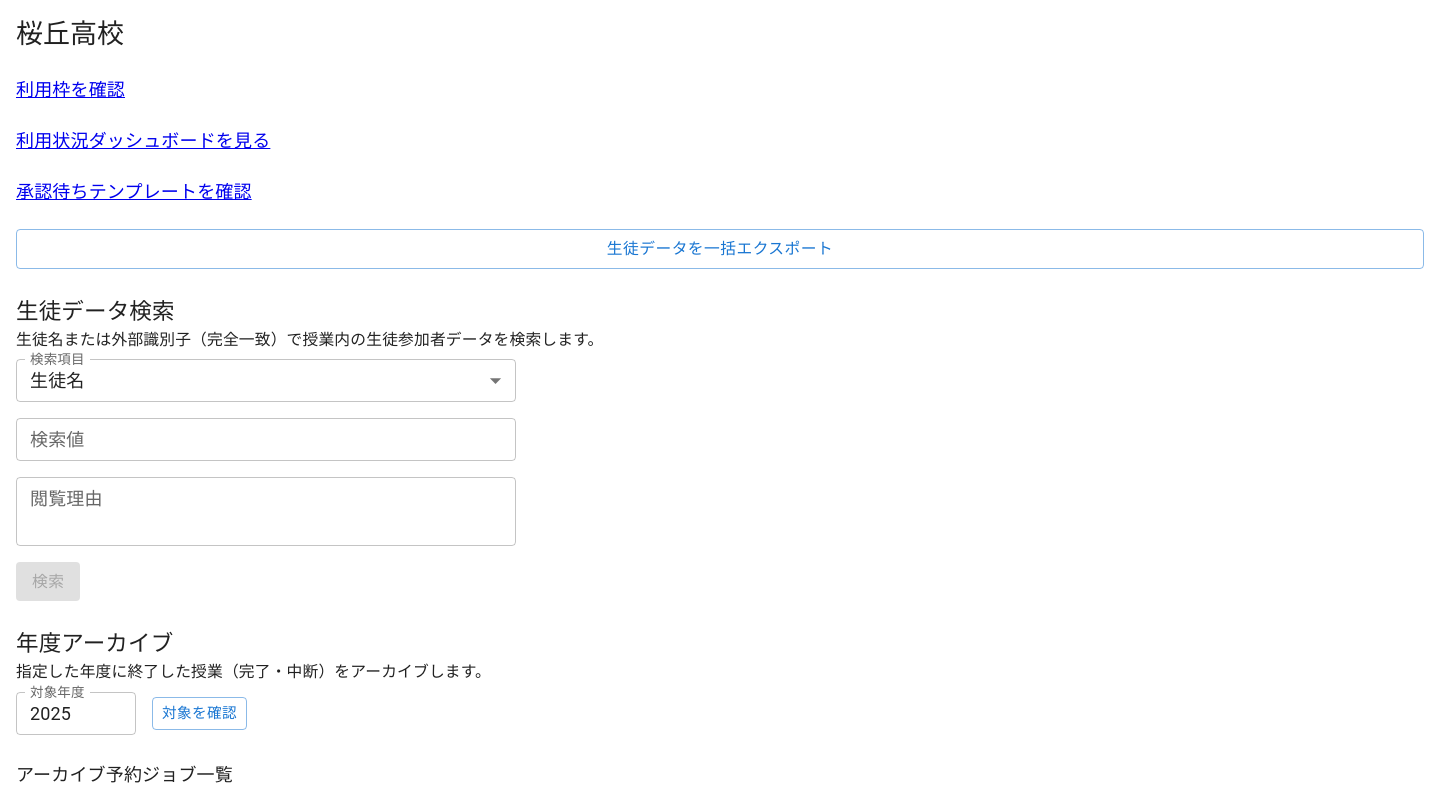
it: student data search › disables search button when query or reason is empty, and enables when both are filled
Expected: the button "検索" is disabled, x1=16 y1=562 x2=80 y2=601
Type "山田 太郎" into the field labelled "検索値" at (266, 439), box x1=16 y1=418 x2=516 y2=461
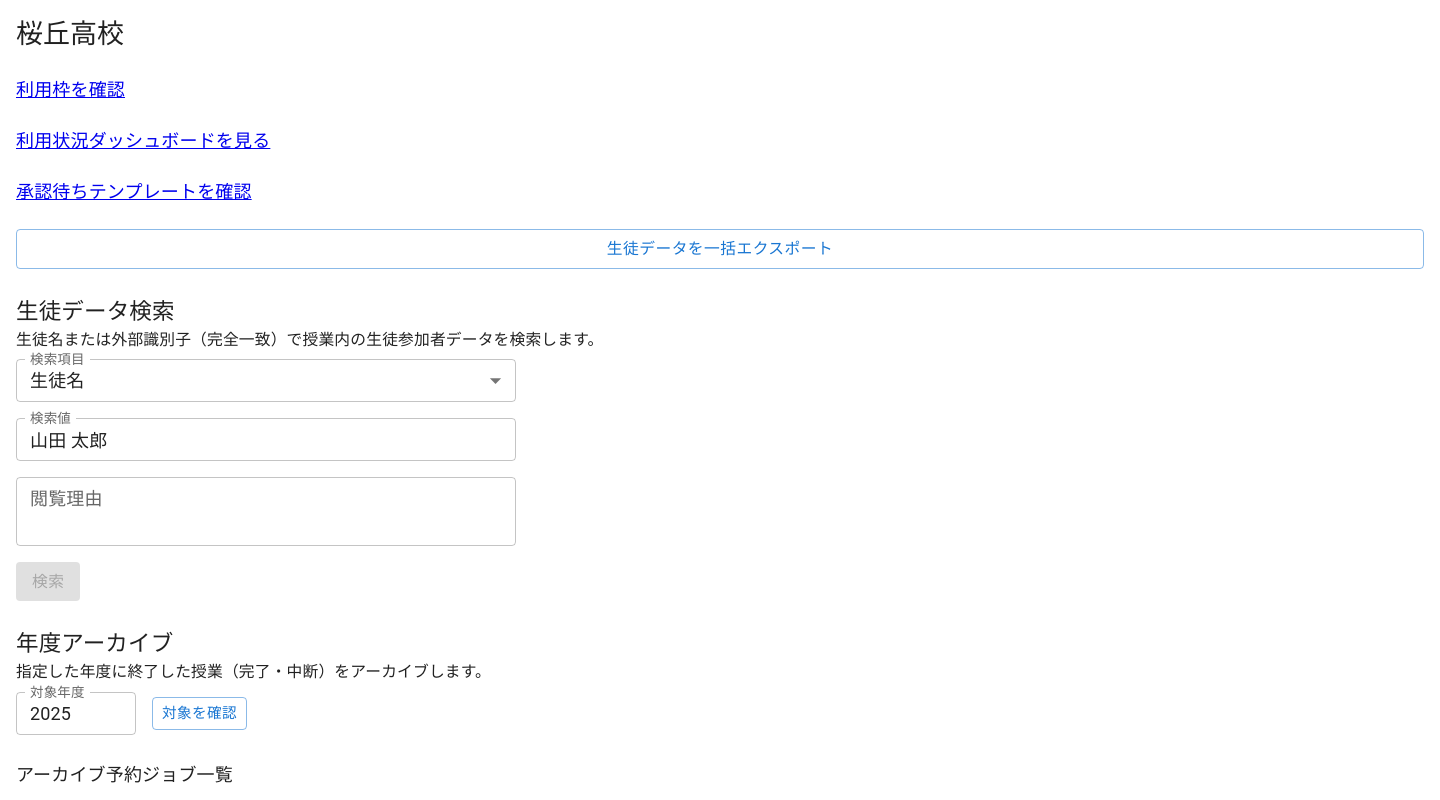
Expected: the button "検索" is disabled, x1=16 y1=562 x2=80 y2=601
Type "学籍照会" into the text box labelled "閲覧理由" at (266, 511), box x1=30 y1=485 x2=502 y2=537
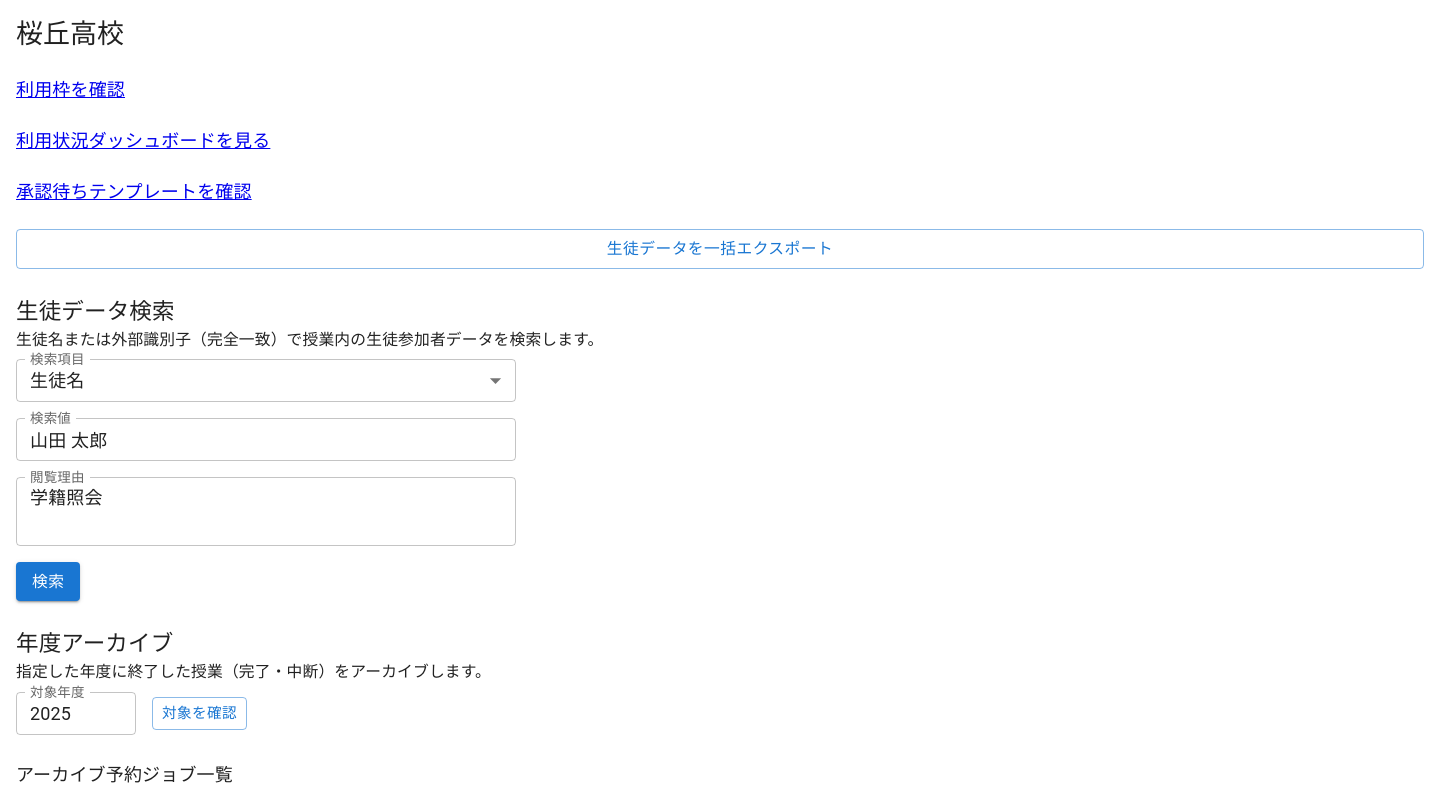
Expected: the button "検索" is enabled, x1=16 y1=562 x2=80 y2=601
